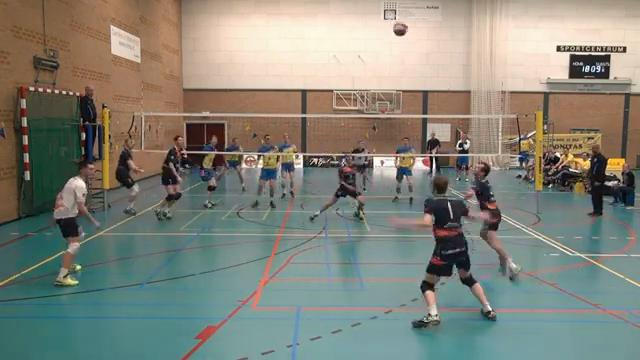Dig: (456, 159, 526, 280)
Player: (391, 175, 496, 327), (53, 161, 99, 285), (310, 156, 364, 220), (154, 135, 183, 219), (115, 139, 143, 215), (257, 134, 279, 208), (392, 137, 415, 203), (279, 133, 297, 198), (205, 135, 226, 180), (352, 140, 369, 191), (226, 154, 246, 192)
ball: (391, 22, 411, 39)
